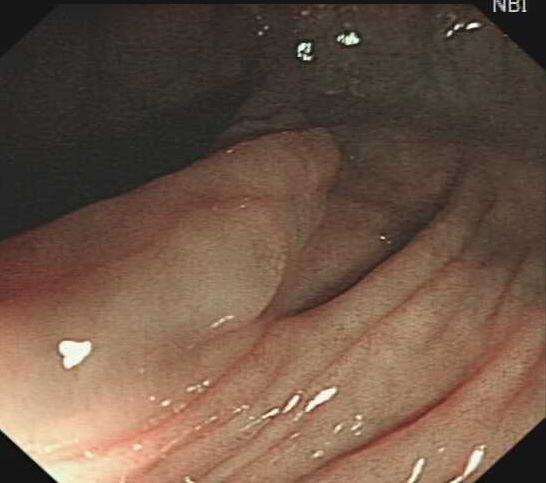others: (101, 200, 288, 332)
